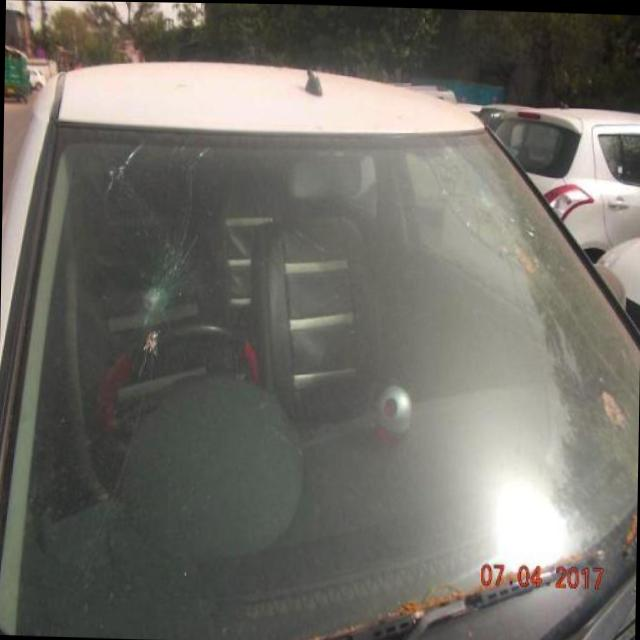Car-Damage: (450, 154, 514, 226), (127, 265, 175, 332)
